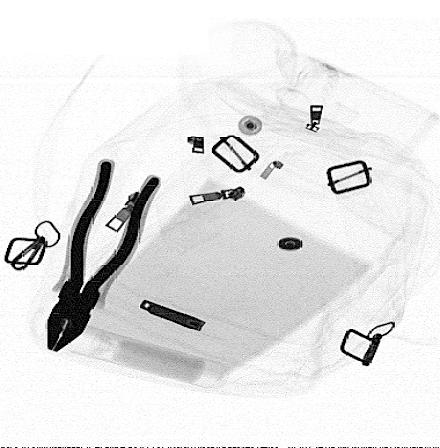Pliers: (46, 158, 162, 354)
